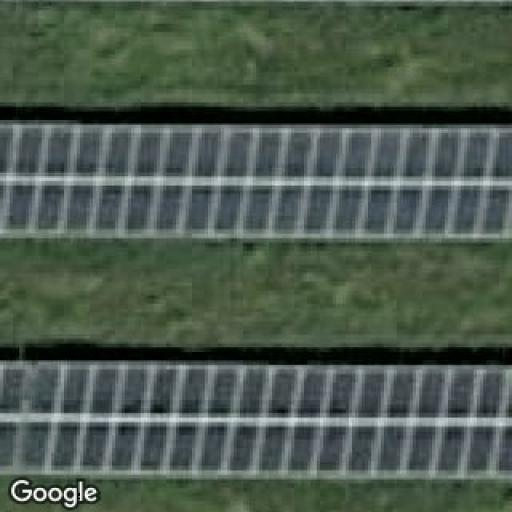solar-panel: (0, 118, 512, 245), (0, 358, 512, 480)
